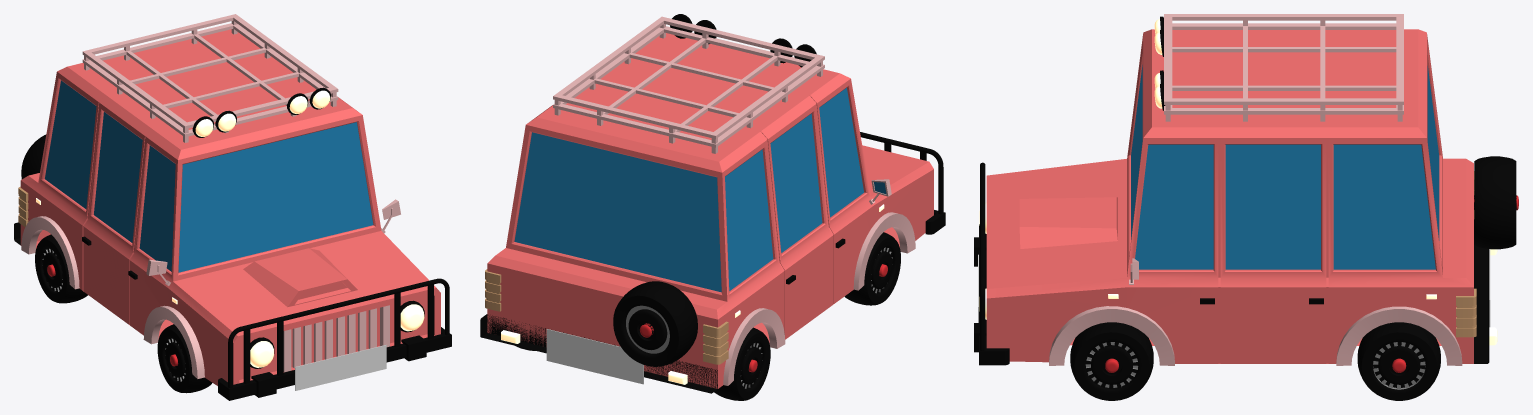
File: simple_car_lowpoly_rigged.glb
3 views of the same model, side by side, from view 1: azimuth 30°, elevation 25°; view 2: azimuth 150°, elevation 25°; view 3: azimuth 270°, elevation 25° (orthographic). The views are drawn at different scales.
Parts seen in each view (by area): view 1: car body_0, wheel FL_5, wheel BL_9, wheel back_1; view 2: car body_0, wheel back_1, wheel FL_5, wheel BL_9; view 3: car body_0, wheel BR_7, wheel FR_3, wheel back_1.
Boxes of the visible parts, x1,y1,x2,y2 form: car body_0: (14, 14, 451, 400); wheel FL_5: (157, 324, 212, 393); wheel BL_9: (35, 234, 87, 303); wheel back_1: (21, 134, 46, 179); car body_0: (480, 14, 945, 393); wheel back_1: (613, 281, 697, 366); wheel FL_5: (844, 232, 900, 305); wheel BL_9: (714, 327, 770, 400); car body_0: (974, 14, 1497, 365); wheel BR_7: (1357, 322, 1440, 400); wheel FR_3: (1070, 322, 1153, 400); wheel back_1: (1474, 156, 1518, 249).
Size of the model in its own units: 4.42 by 4.15 by 7.05.
